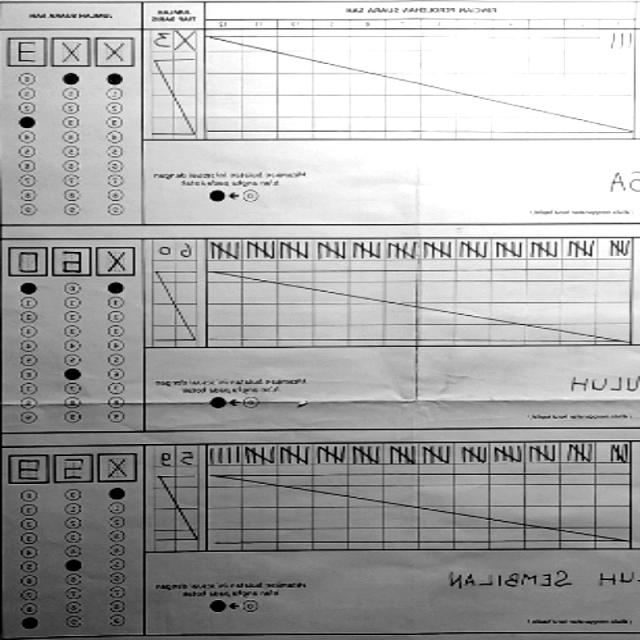Suara: (9, 443, 143, 486), (5, 240, 141, 279), (6, 32, 138, 68)
